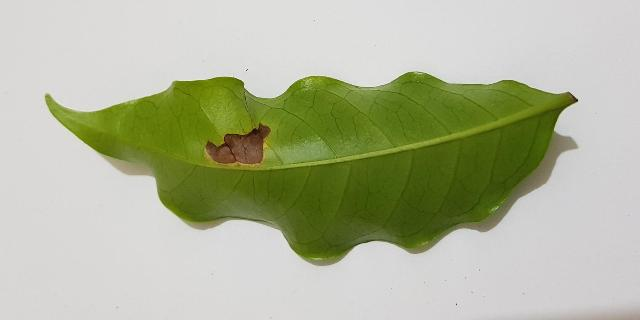cercospora: (205, 124, 270, 166)
